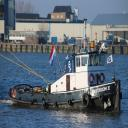tugboat: (6, 43, 124, 116)
